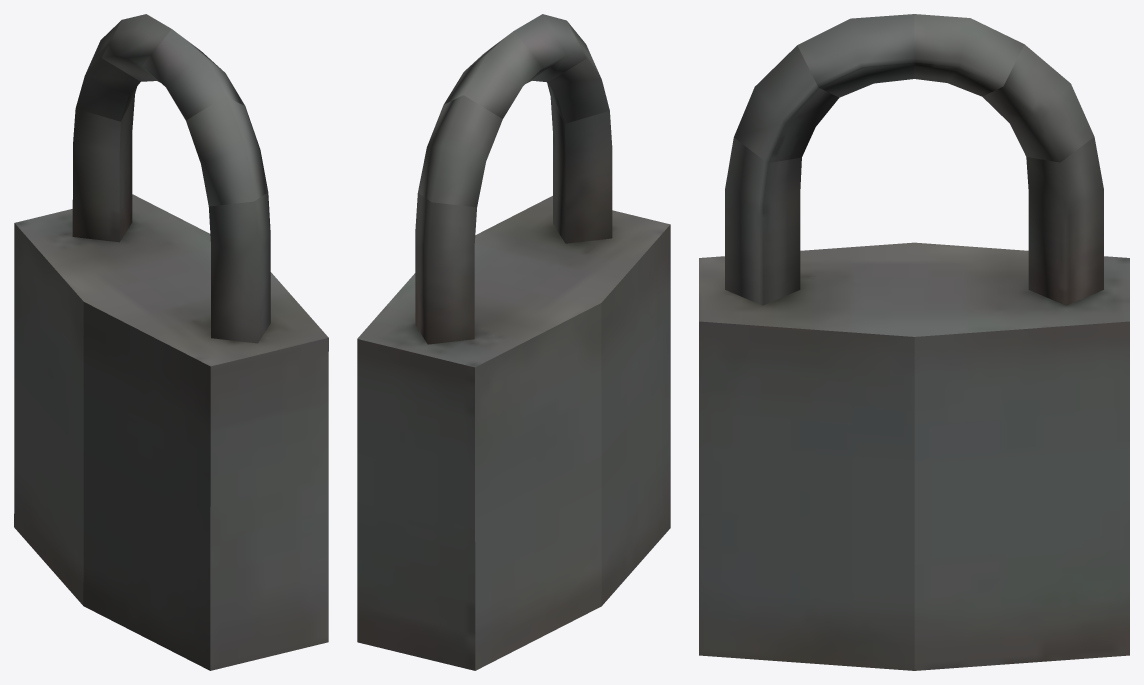
3 renders of one model, left to right at view 1: azimuth 30°, elevation 25°; view 2: azimuth 150°, elevation 25°; view 3: azimuth 270°, elevation 25°, orthographic. The views are drawn at different scales.
Parts seen in each view (by area): view 1: body0_model0_lod0_mesh0; view 2: body0_model0_lod0_mesh0; view 3: body0_model0_lod0_mesh0.
Part boxes in pixels (left/top/right/bottom): body0_model0_lod0_mesh0: left=14, top=14, right=328, bottom=670; body0_model0_lod0_mesh0: left=357, top=14, right=670, bottom=670; body0_model0_lod0_mesh0: left=699, top=14, right=1129, bottom=670.
Size of the model in its own units: 3.02 by 9.1 by 5.82.
Materials: 1 (1 with a texture image).
